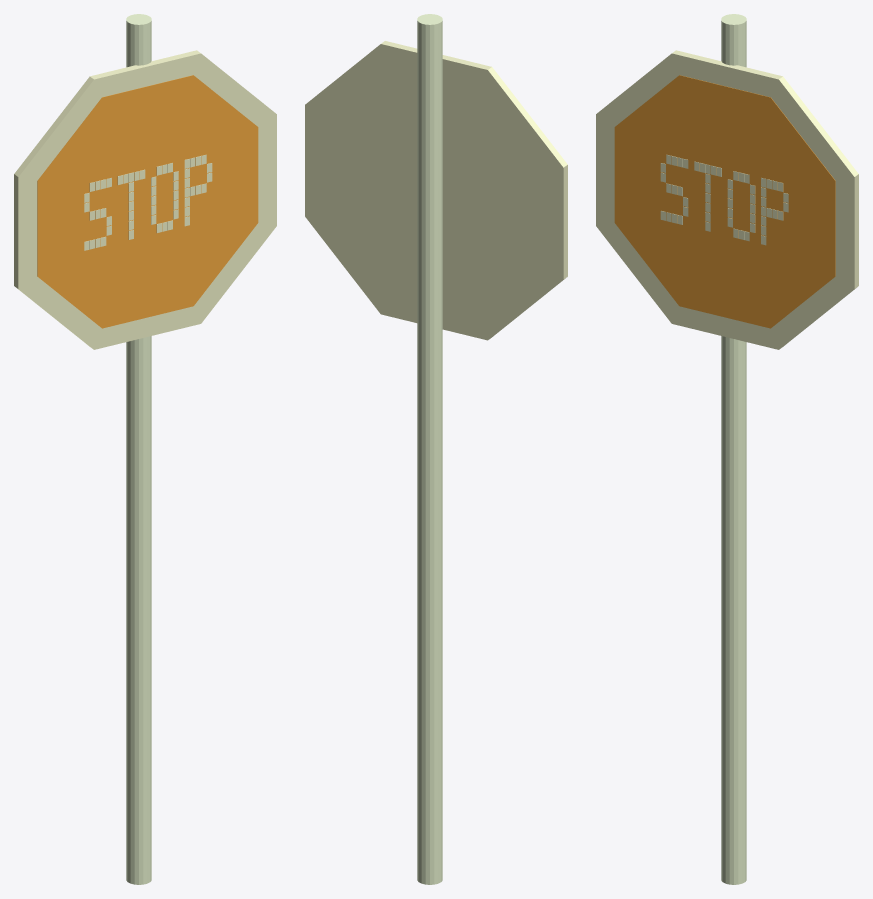
File: sign_stop.glb
The picture shows the model from 3 angles, left to right: view 1: azimuth 30°, elevation 25°; view 2: azimuth 150°, elevation 25°; view 3: azimuth 330°, elevation 25°; orthographic projection.
Parts seen in each view (by area): view 1: layer_1_00, plate_base_00, pole; view 2: plate_base_00, pole; view 3: layer_1_00, plate_base_00, pole.
Boxes of the visible parts, <box> form: layer_1_00: <box>37,75,258,328</box>; plate_base_00: <box>14,50,276,349</box>; pole: <box>126,14,151,884</box>; plate_base_00: <box>305,41,567,340</box>; pole: <box>417,14,442,884</box>; layer_1_00: <box>614,75,835,328</box>; plate_base_00: <box>596,50,858,349</box>; pole: <box>721,14,746,884</box>.
Bounding box in the file's own units: 0.6918 × 2.2 × 0.0725.
